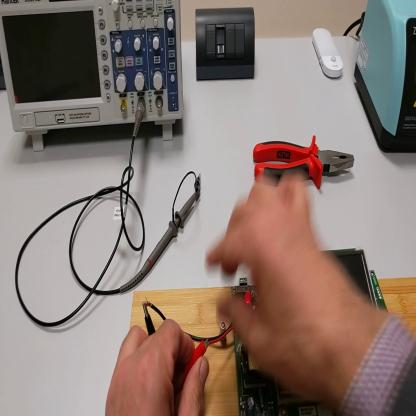hand: (208, 171, 365, 393), (107, 318, 209, 416)
low voltage board: (146, 249, 394, 416)
oscilloscope: (2, 2, 184, 151)
oscilloscope probe tip: (124, 193, 197, 290)
pliers: (252, 131, 358, 191)
welder station: (357, 1, 416, 157)
working area: (133, 277, 416, 415)
